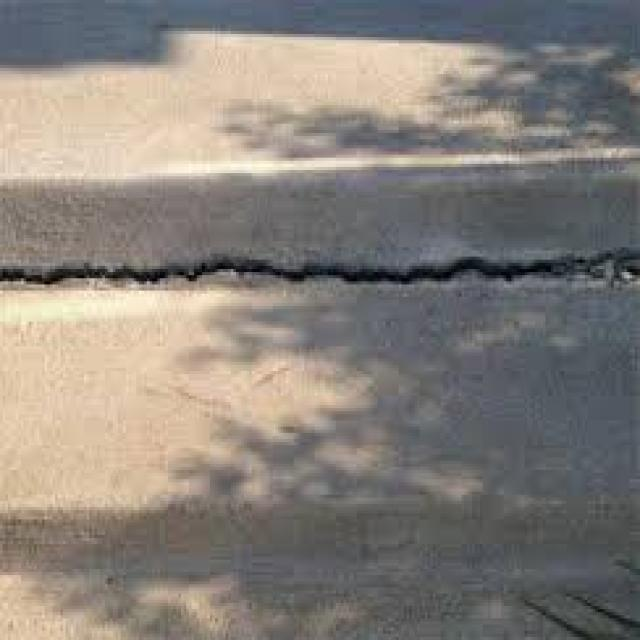Crack: (0, 238, 635, 285)
